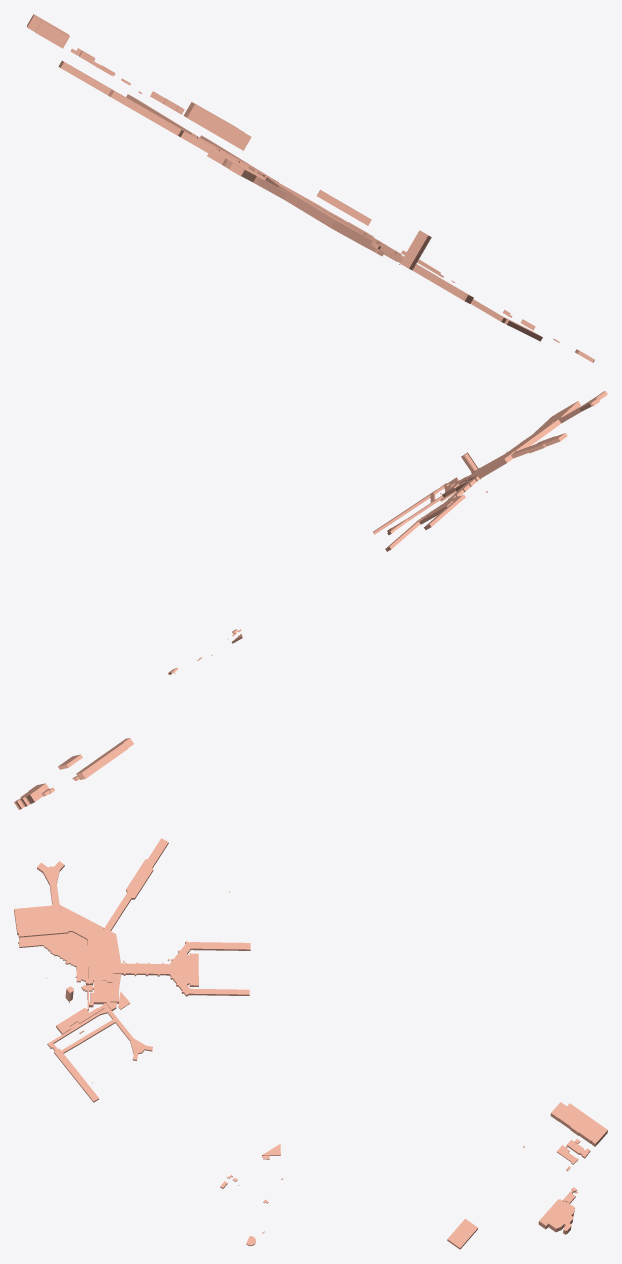
The picture shows the model from 3 angles, top to bottom: view 1: azimuth 30°, elevation 25°; view 2: azimuth 150°, elevation 25°; view 3: azimuth 270°, elevation 25°; orthographic projection. The views are drawn at different scales.
Size of the model in its own units: 1534 by 1246 by 2536.
